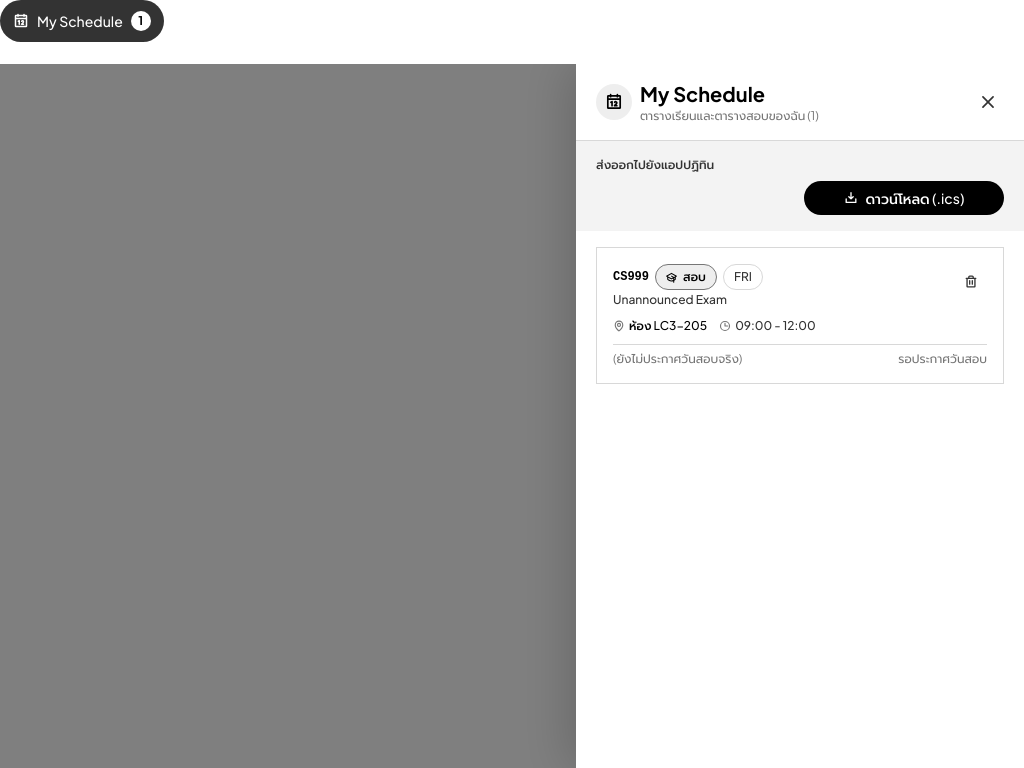
Test: MyScheduleDrawer Component › displays warning notice when exporting with unannounced exam rows
Click the button with test id "export-ics-button" at [904, 198], box left=804, top=181, right=1004, bottom=215
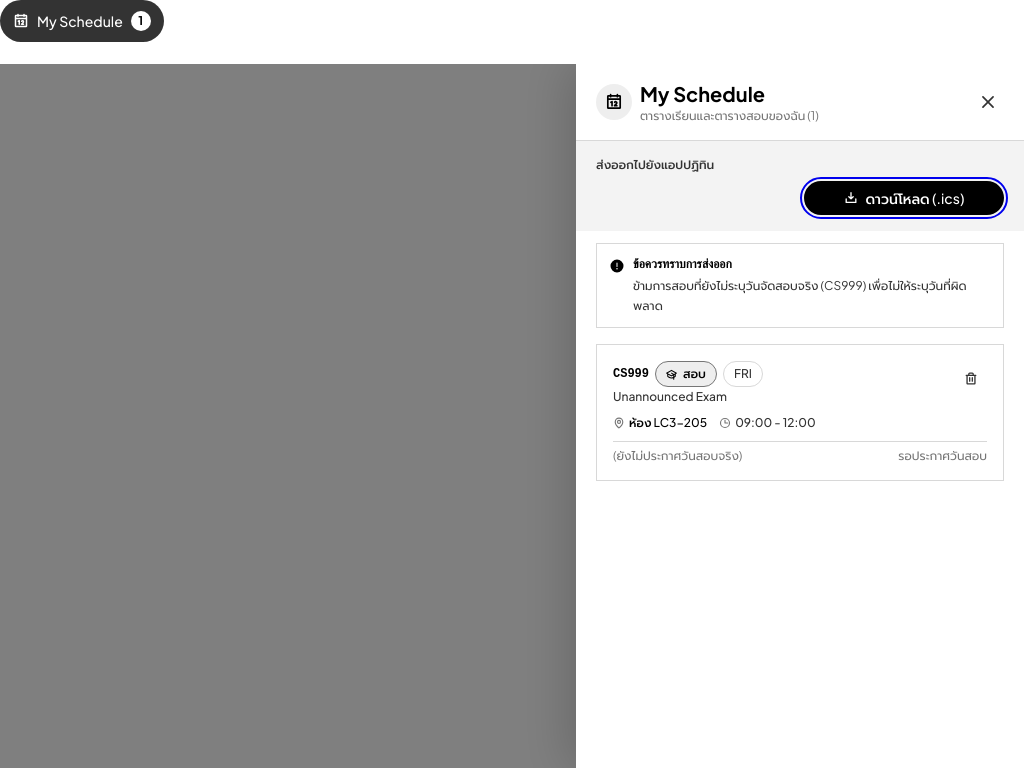
Expected: the message shows "ข้ามการสอบที่ยังไม่ระบุวันจัดสอบจริง (CS999)", left=633, top=278, right=966, bottom=312
